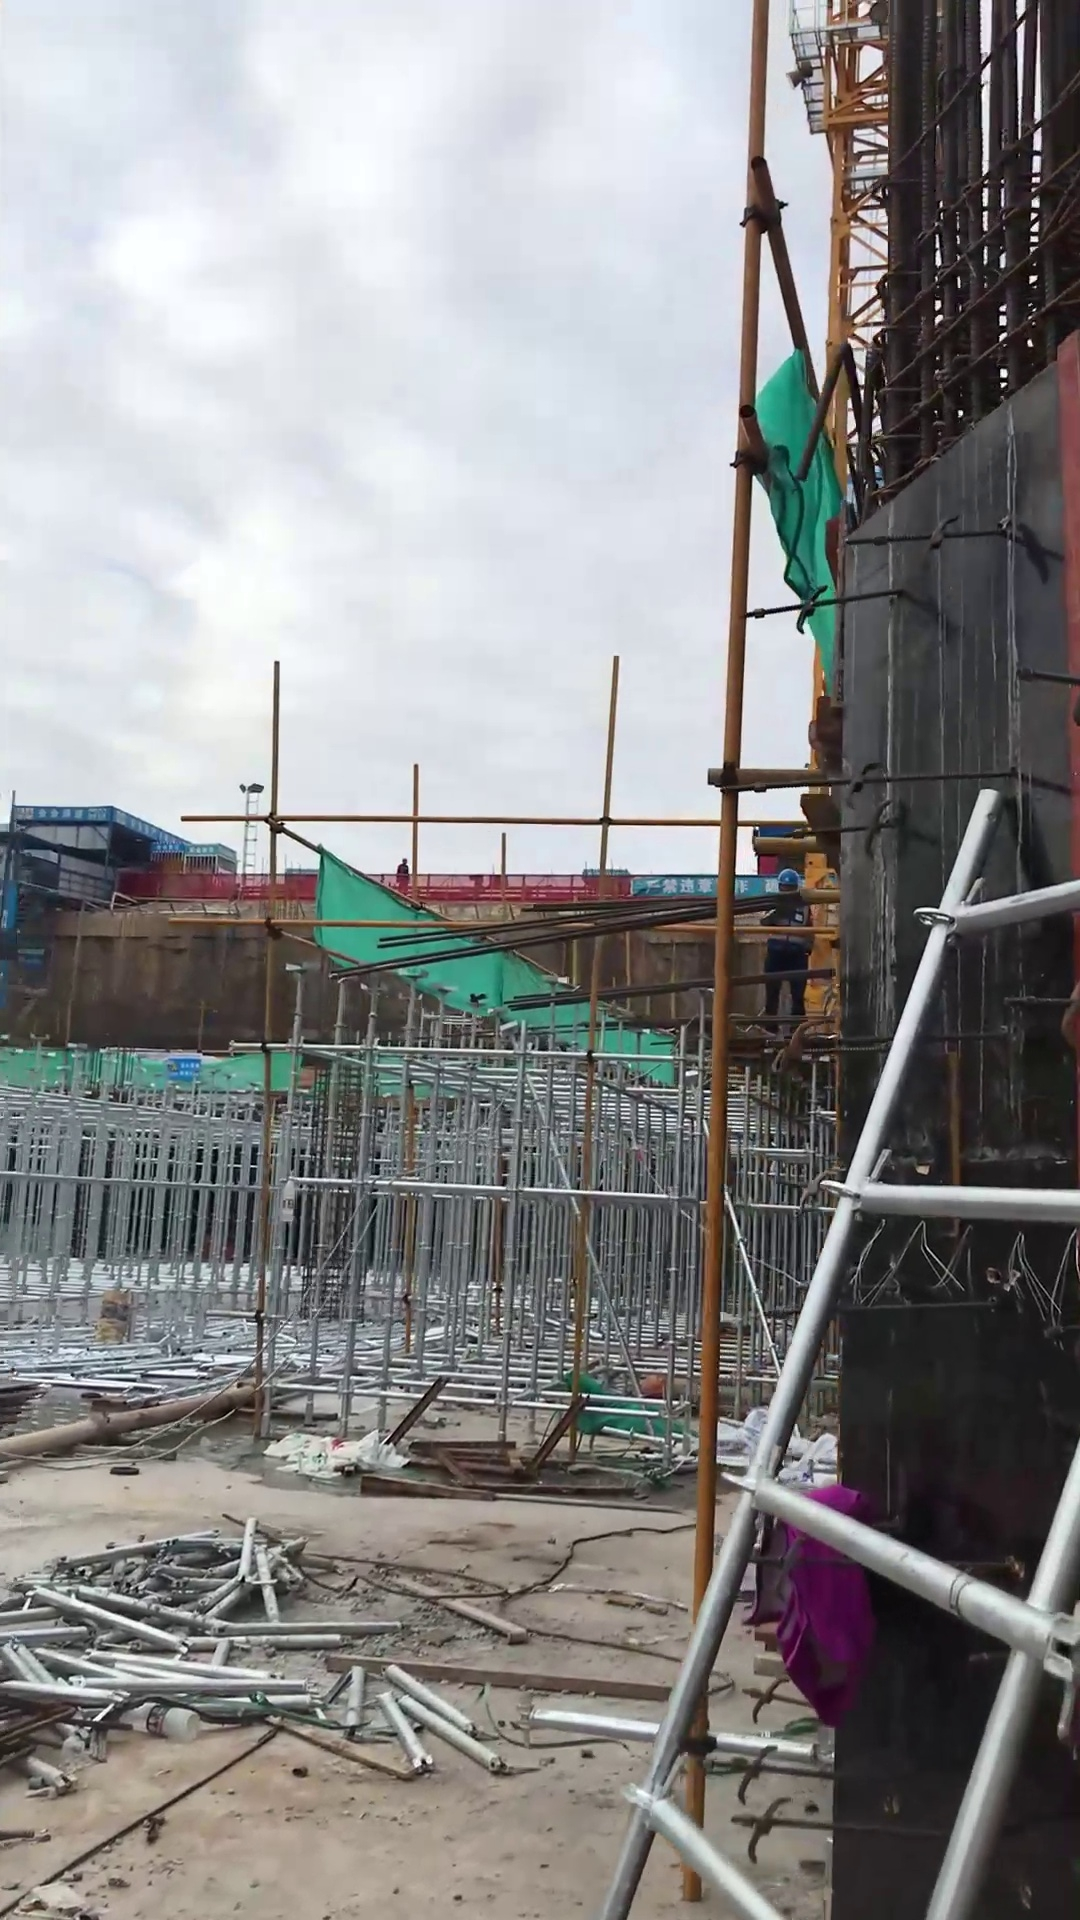helmet: (775, 866, 802, 887)
person: (757, 864, 808, 1044), (395, 857, 411, 897)
slogan: (11, 802, 236, 860), (628, 875, 777, 900), (166, 1050, 203, 1083)
vest: (760, 887, 810, 960)
